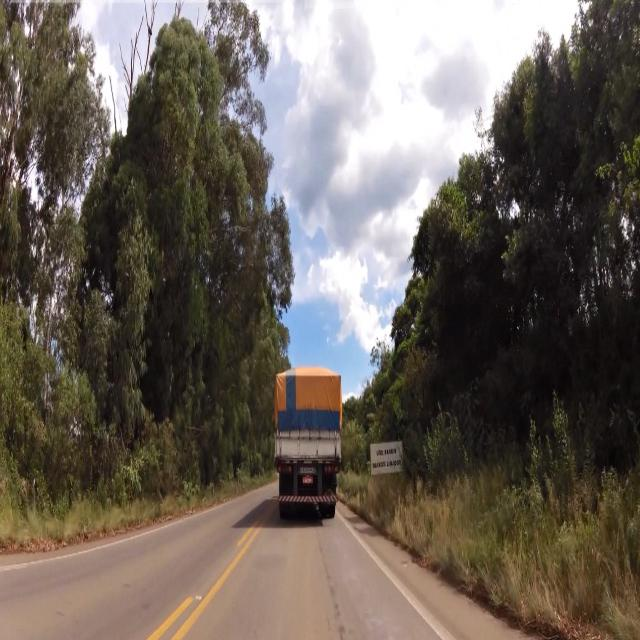E-5: (370, 437, 406, 478)
